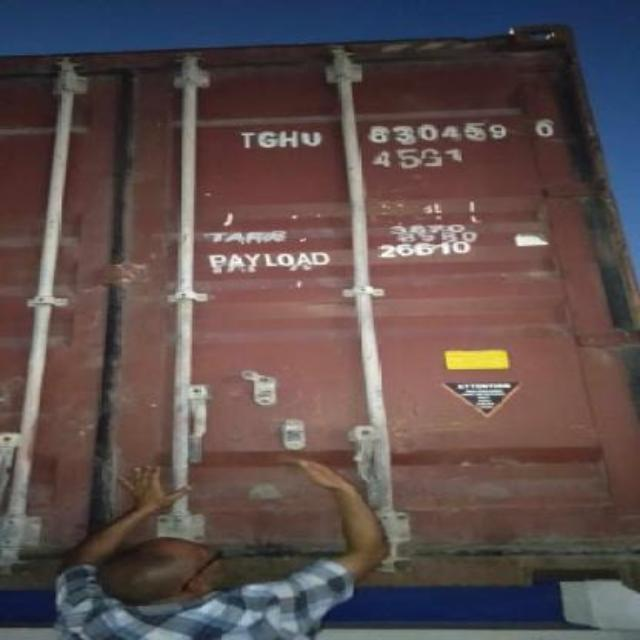0: (532, 118, 564, 144), (410, 119, 440, 145)
3: (390, 120, 414, 144)
4: (438, 118, 459, 144)
5: (464, 119, 490, 145)
8: (362, 121, 390, 145)
9: (484, 119, 518, 145)
G: (256, 127, 280, 153)
H: (278, 126, 300, 150)
T: (237, 128, 253, 148)
U: (302, 126, 324, 150)
